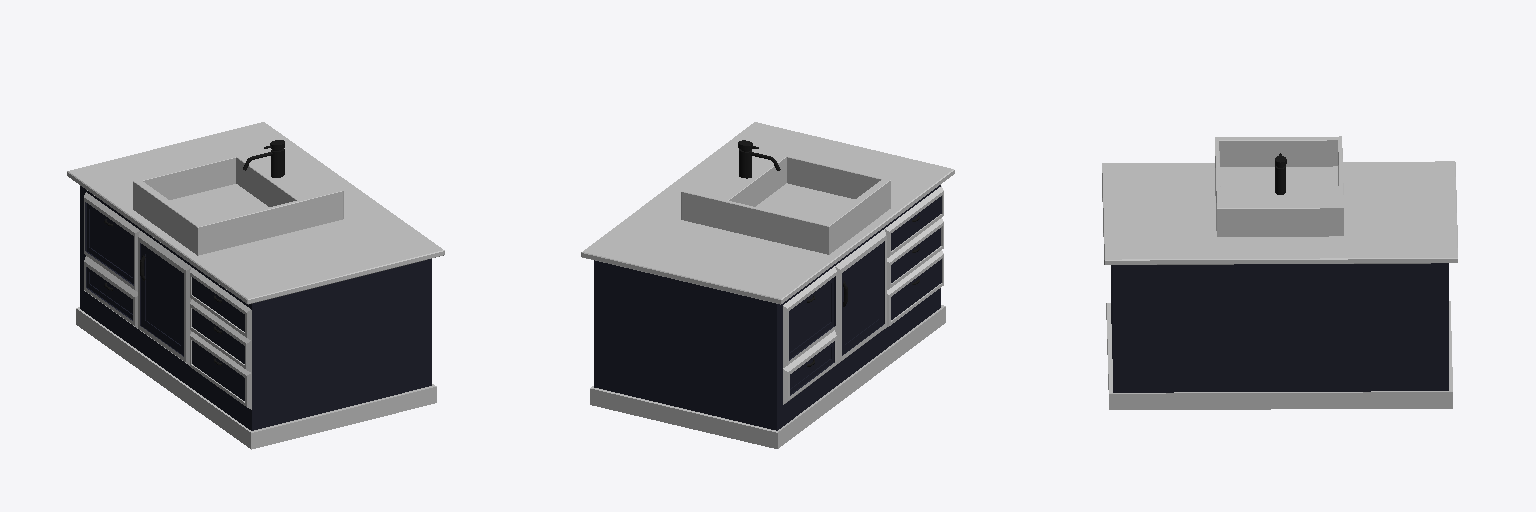
The model's file is right_lavabo_m2.obj.
The picture shows the model from 3 angles: view 1: azimuth 30°, elevation 25°; view 2: azimuth 150°, elevation 25°; view 3: azimuth 270°, elevation 25°; orthographic projection.
Visible parts, largest first — view 1: Cube.001; view 2: Cube.001; view 3: Cube.001.
Boxes of the visible parts, x1,y1,x2,y2 form: Cube.001: [67, 122, 444, 449]; Cube.001: [581, 122, 954, 448]; Cube.001: [1102, 136, 1457, 409].
Size of the model in its own units: 374 by 380 by 570.